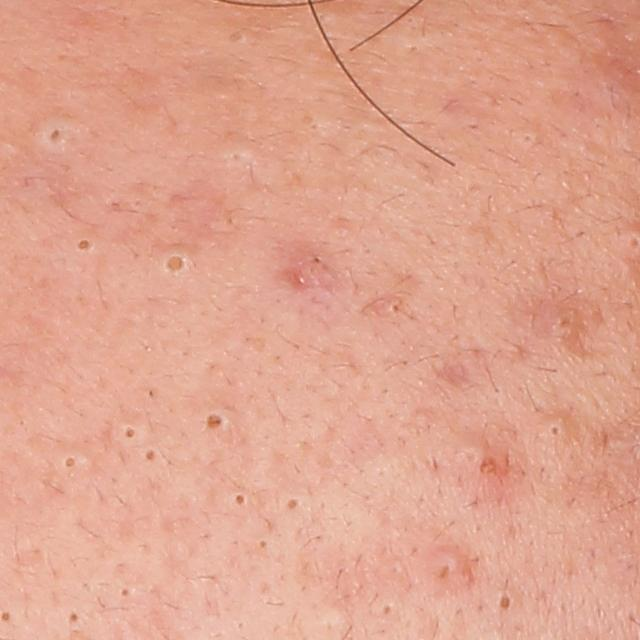atrophic_scar: (426, 358, 480, 393)
comedo: (199, 402, 237, 432), (159, 248, 192, 276), (222, 141, 253, 170), (44, 123, 74, 148), (141, 443, 164, 468), (68, 234, 93, 256), (62, 449, 85, 472), (114, 581, 135, 605), (385, 295, 406, 319), (519, 127, 539, 150), (122, 422, 141, 445), (68, 608, 87, 631), (229, 488, 248, 510), (246, 535, 273, 550), (284, 495, 304, 514), (379, 599, 398, 616)
